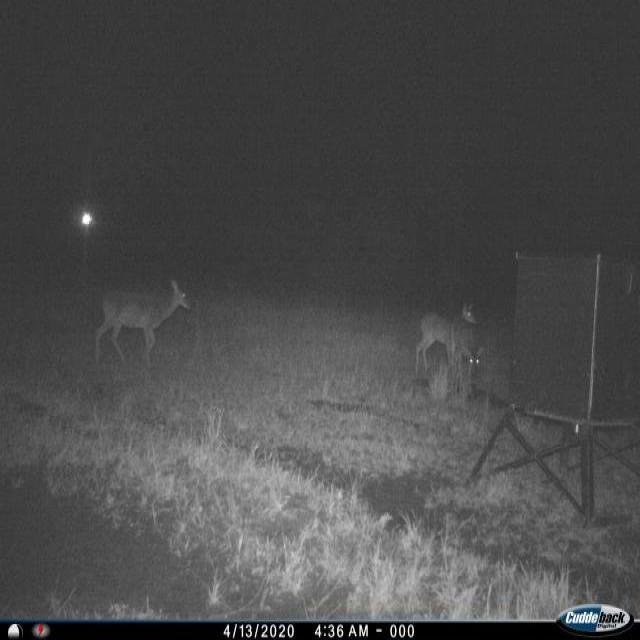deer: (92, 271, 198, 369), (412, 298, 475, 382), (460, 330, 490, 385)
